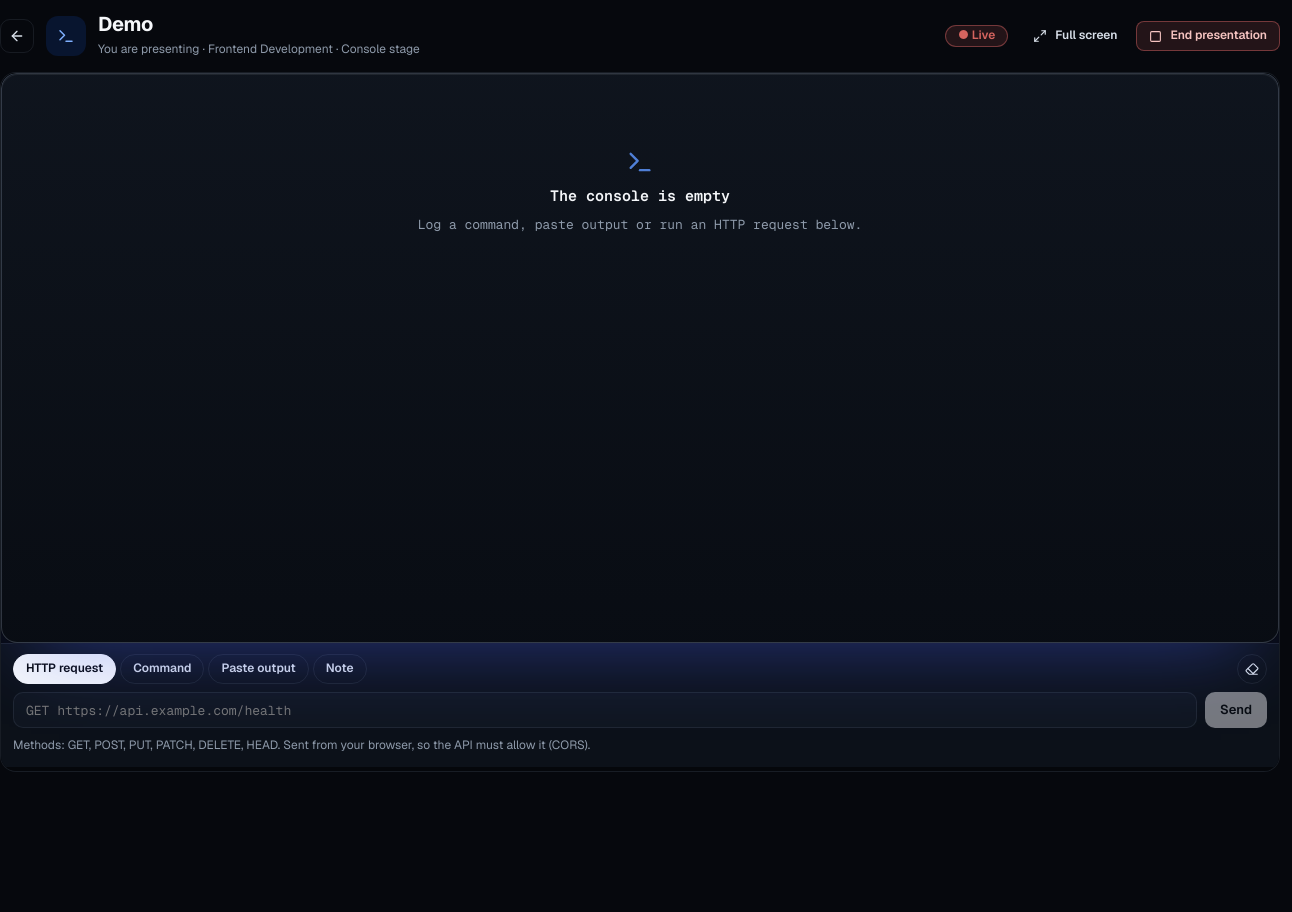
Test case: console stage › never sends a request to an unsafe address
Type "GET javascript:alert(1)" into the field named "HTTP request" at (605, 710), box [13, 692, 1197, 728]
Then press Enter
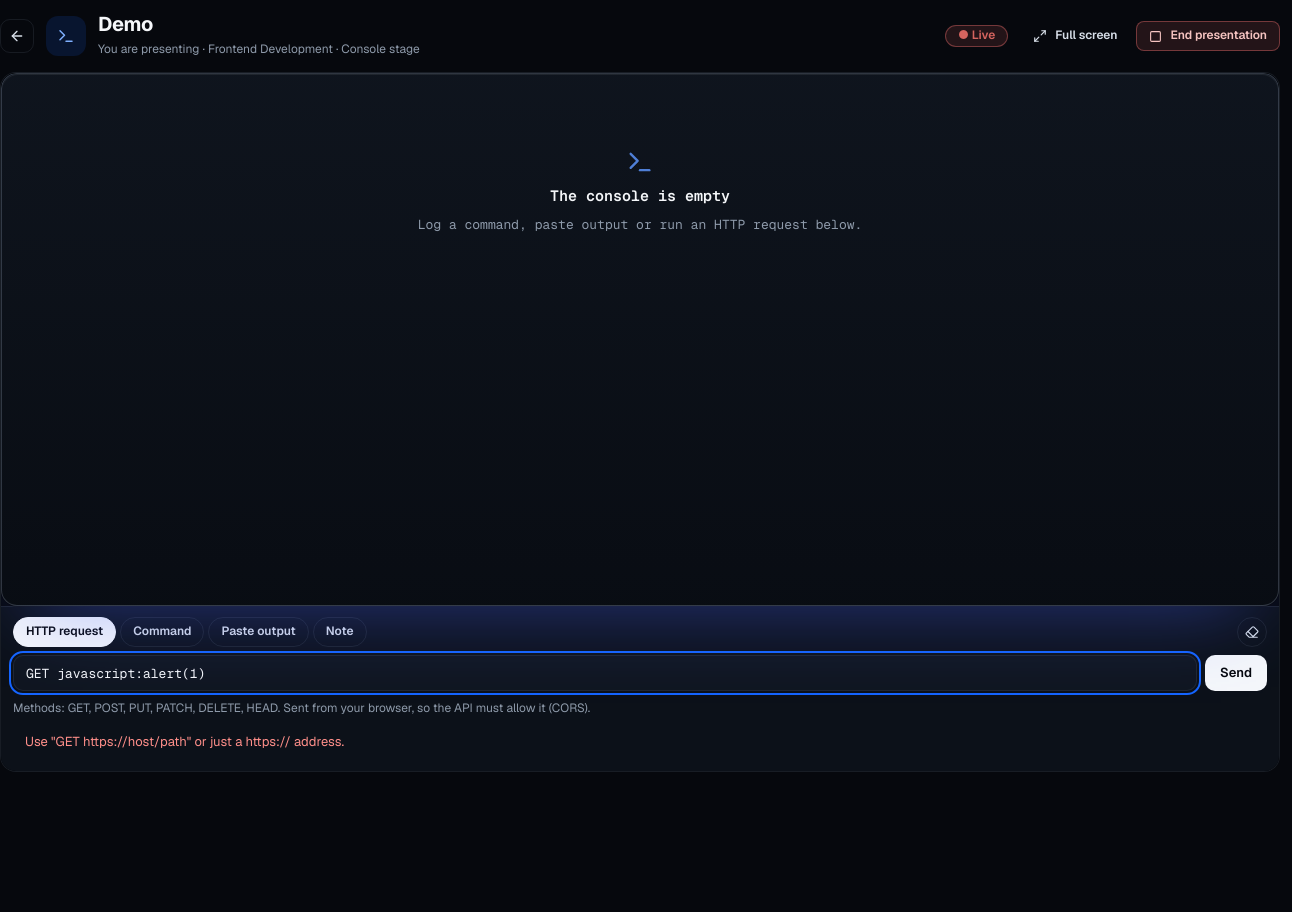
Expected: the message "Use \"GET https://host/path\" or just a https:// address." is shown, [25, 733, 344, 750]
